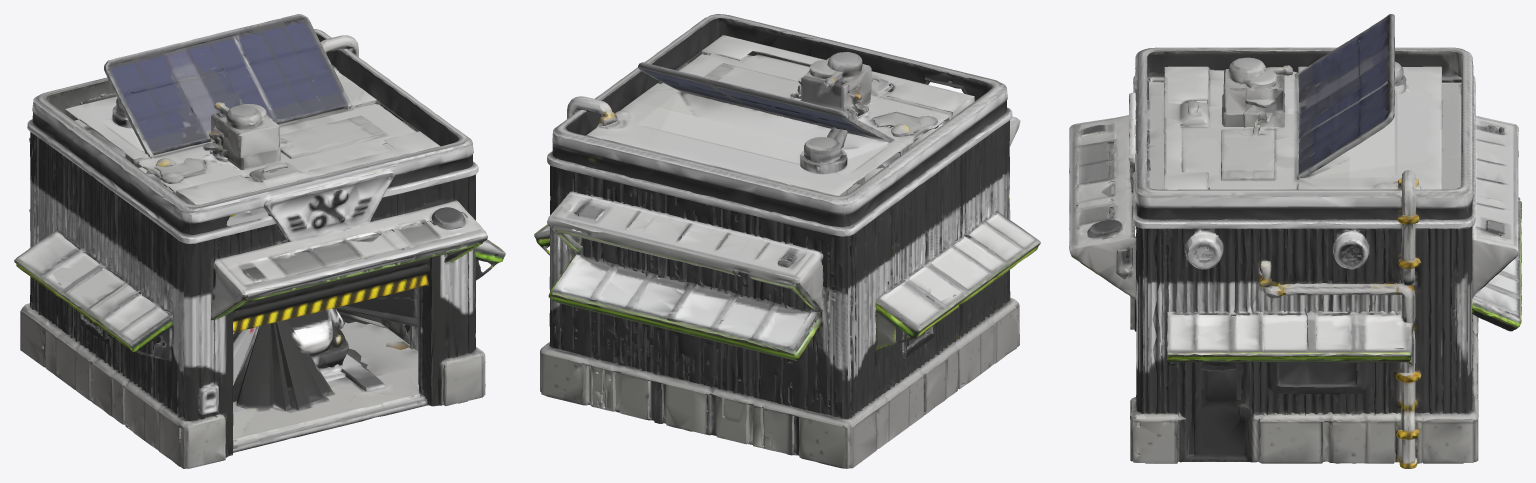
Rendered from u_bld_garage_b.glb.
3 views of the same model, side by side, from view 1: azimuth 30°, elevation 25°; view 2: azimuth 150°, elevation 25°; view 3: azimuth 270°, elevation 25° (orthographic). The views are drawn at different scales.
Parts seen in each view (by area): view 1: geometry_0; view 2: geometry_0; view 3: geometry_0.
Boxes of the visible parts, <box> form: geometry_0: <box>14,14,505,468</box>; geometry_0: <box>534,14,1040,468</box>; geometry_0: <box>1069,14,1521,468</box>.
Size of the model in its own units: 8 by 6.24 by 7.98.
1 material, 1 textured.
